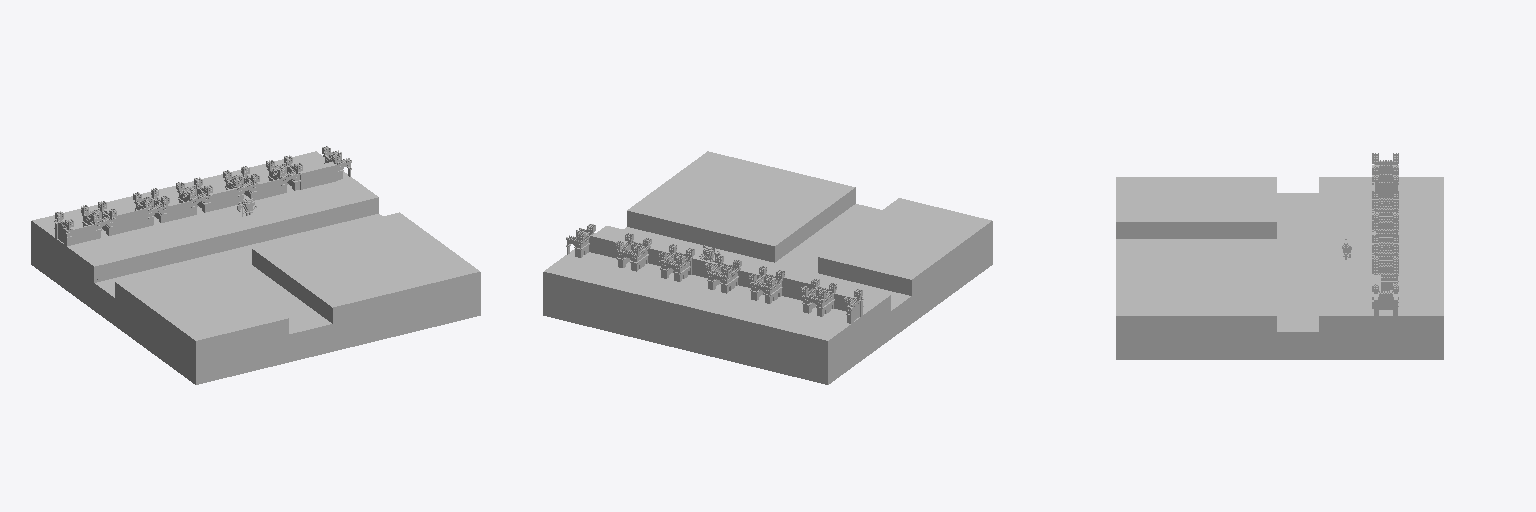
The model's file is map.obj.
The picture shows the model from 3 angles: view 1: azimuth 30°, elevation 25°; view 2: azimuth 150°, elevation 25°; view 3: azimuth 270°, elevation 25°; orthographic projection.
Visible parts, largest first — view 1: object 1; view 2: object 1; view 3: object 1.
Boxes of the visible parts, x1,y1,x2,y2 form: object 1: [31, 146, 480, 384]; object 1: [543, 151, 992, 384]; object 1: [1116, 153, 1443, 359].
Size of the model in its own units: 25.6 by 5.9 by 25.6.